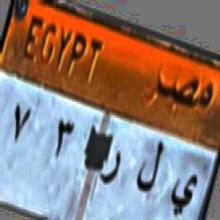3: (50, 113, 78, 173)
7: (10, 94, 31, 150)
laam: (135, 129, 163, 207)
raa: (100, 150, 122, 196)
yaa: (170, 170, 198, 220)
